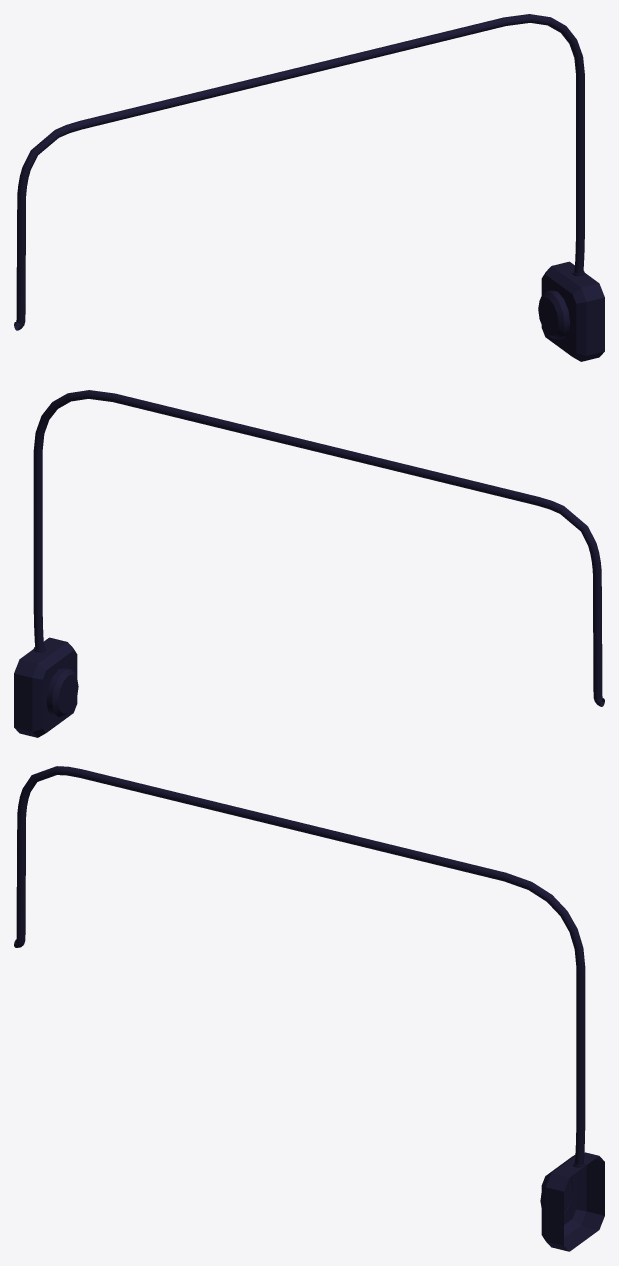
File: knopka.fbx
The picture shows the model from 3 angles, top to bottom: view 1: azimuth 30°, elevation 25°; view 2: azimuth 150°, elevation 25°; view 3: azimuth 330°, elevation 25°; orthographic projection.
Visible parts, largest first — view 1: BezierCurve, Cube.025, Cylinder.015; view 2: BezierCurve, Cube.025, Cylinder.015; view 3: BezierCurve, Cube.025.
Part boxes in pixels (bbox=[...]): BezierCurve: bbox=[14, 14, 584, 330]; Cube.025: bbox=[541, 261, 604, 361]; Cylinder.015: bbox=[538, 290, 570, 339]; BezierCurve: bbox=[33, 390, 604, 706]; Cube.025: bbox=[14, 637, 77, 737]; Cylinder.015: bbox=[46, 667, 78, 717]; BezierCurve: bbox=[14, 766, 585, 1165]; Cube.025: bbox=[541, 1152, 604, 1251].
Size of the model in its own units: 286 by 167 by 35.67.
